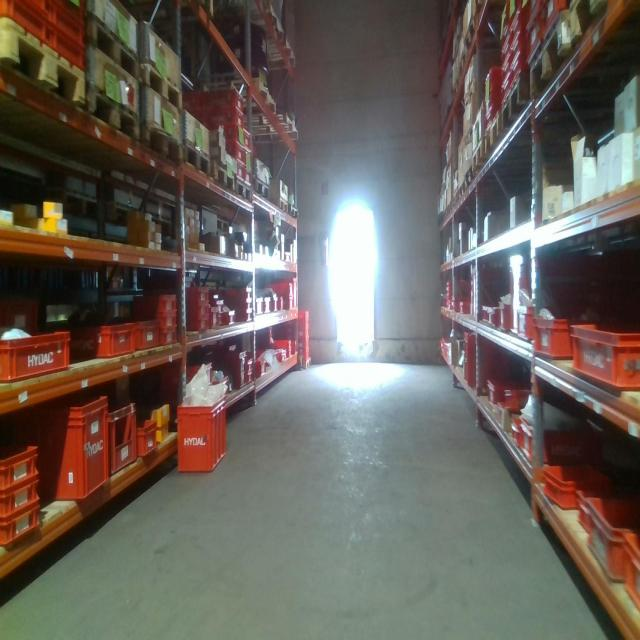pallet: (2, 17, 88, 131), (527, 5, 582, 110), (79, 9, 141, 82), (189, 71, 277, 121), (85, 93, 143, 149), (569, 2, 627, 52), (219, 5, 282, 45), (134, 61, 185, 109), (502, 63, 533, 137), (247, 106, 300, 149), (173, 136, 211, 184), (137, 130, 183, 167), (194, 161, 237, 195), (263, 37, 296, 70), (485, 109, 502, 165), (223, 178, 254, 206), (469, 138, 487, 185), (460, 17, 478, 62), (242, 178, 272, 204), (267, 192, 289, 218), (459, 168, 471, 199), (289, 210, 300, 224), (301, 359, 312, 370)
small_load_carrier: (27, 392, 110, 511), (569, 313, 638, 393), (1, 328, 73, 388), (179, 392, 227, 474), (586, 491, 629, 581), (67, 321, 134, 362), (112, 396, 143, 479), (541, 457, 589, 504), (2, 1, 51, 47), (530, 305, 570, 360), (1, 502, 41, 555), (1, 473, 42, 521), (0, 443, 40, 488), (214, 347, 248, 392), (50, 32, 87, 73), (519, 425, 551, 472), (50, 4, 84, 45), (199, 86, 247, 114), (126, 312, 157, 355), (621, 536, 640, 604), (526, 7, 543, 70), (568, 478, 589, 526), (209, 129, 252, 149), (140, 419, 160, 461), (503, 387, 534, 414), (541, 0, 569, 27), (130, 293, 179, 308), (53, 2, 86, 23), (201, 107, 244, 123), (185, 320, 212, 344), (485, 377, 503, 409), (228, 142, 249, 168), (182, 283, 211, 301), (185, 301, 211, 320), (159, 308, 179, 330), (159, 330, 182, 348), (285, 277, 298, 308), (222, 287, 252, 300), (273, 281, 294, 297), (208, 305, 220, 329), (231, 164, 244, 181), (224, 311, 237, 328), (271, 338, 292, 348), (234, 300, 252, 311), (234, 311, 253, 321), (255, 296, 265, 315), (297, 336, 310, 350), (247, 367, 256, 384), (247, 352, 255, 371), (243, 174, 252, 190), (297, 324, 309, 336), (297, 350, 311, 360), (297, 311, 307, 324), (276, 296, 284, 311), (270, 293, 277, 310), (284, 297, 294, 308), (264, 298, 271, 313)
